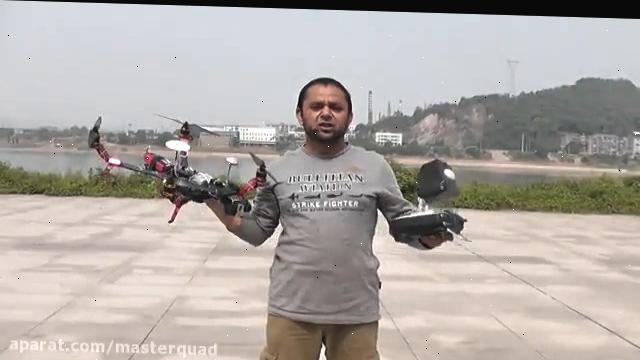drone: (84, 108, 280, 224)
